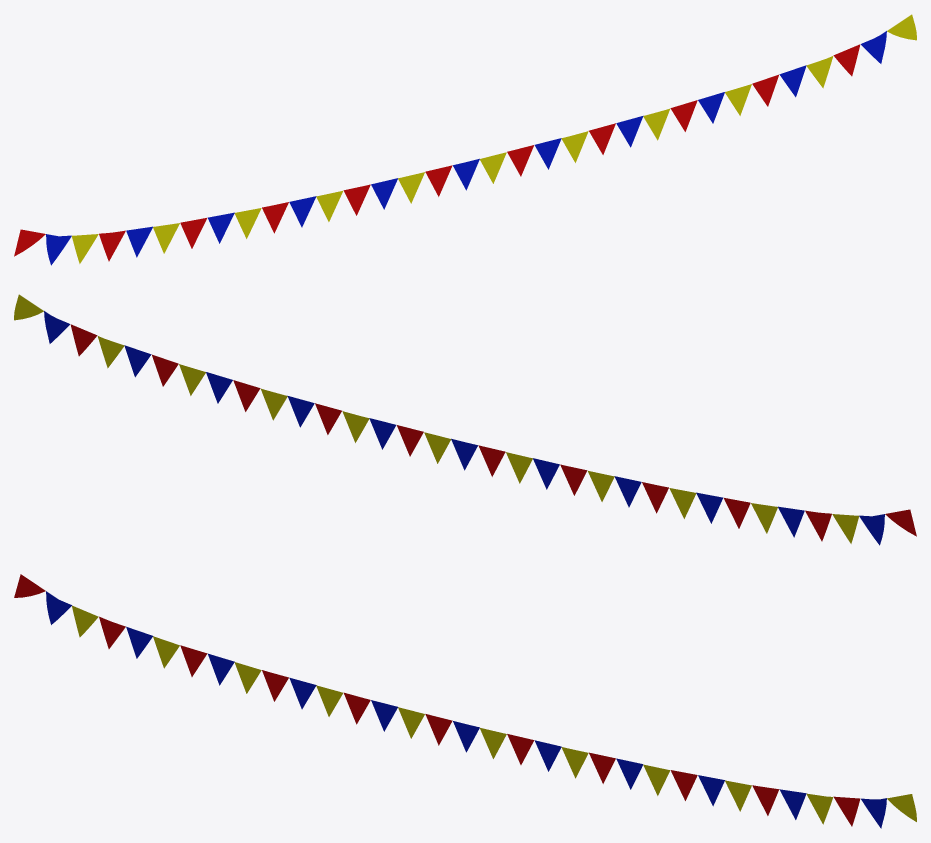
File: Banderas.glb
The picture shows the model from 3 angles, top to bottom: view 1: azimuth 30°, elevation 25°; view 2: azimuth 150°, elevation 25°; view 3: azimuth 330°, elevation 25°; orthographic projection.
Parts seen in each view (by area): view 1: Plane; view 2: Plane; view 3: Plane.
Part boxes in pixels (bbox=[...]): Plane: bbox=[14, 14, 916, 265]; Plane: bbox=[14, 294, 916, 545]; Plane: bbox=[14, 574, 916, 828].
Size of the model in its own units: 19.74 by 1.47 by 2.1e-07.
